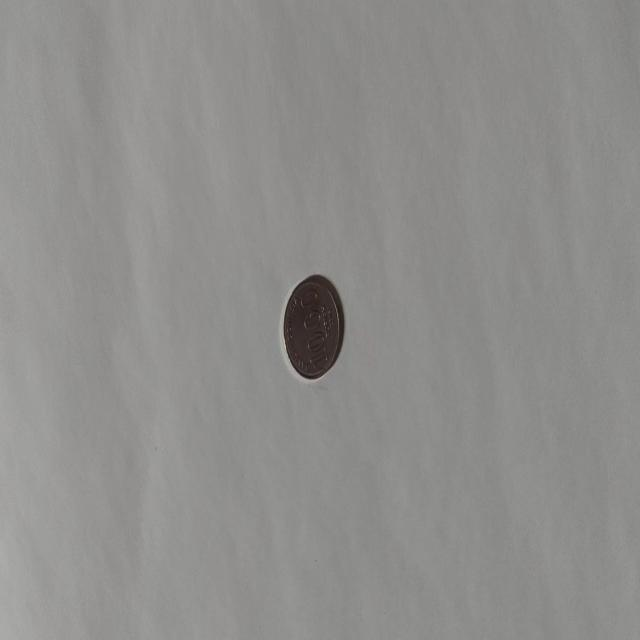seribu rupiah koin: (280, 273, 342, 382)
